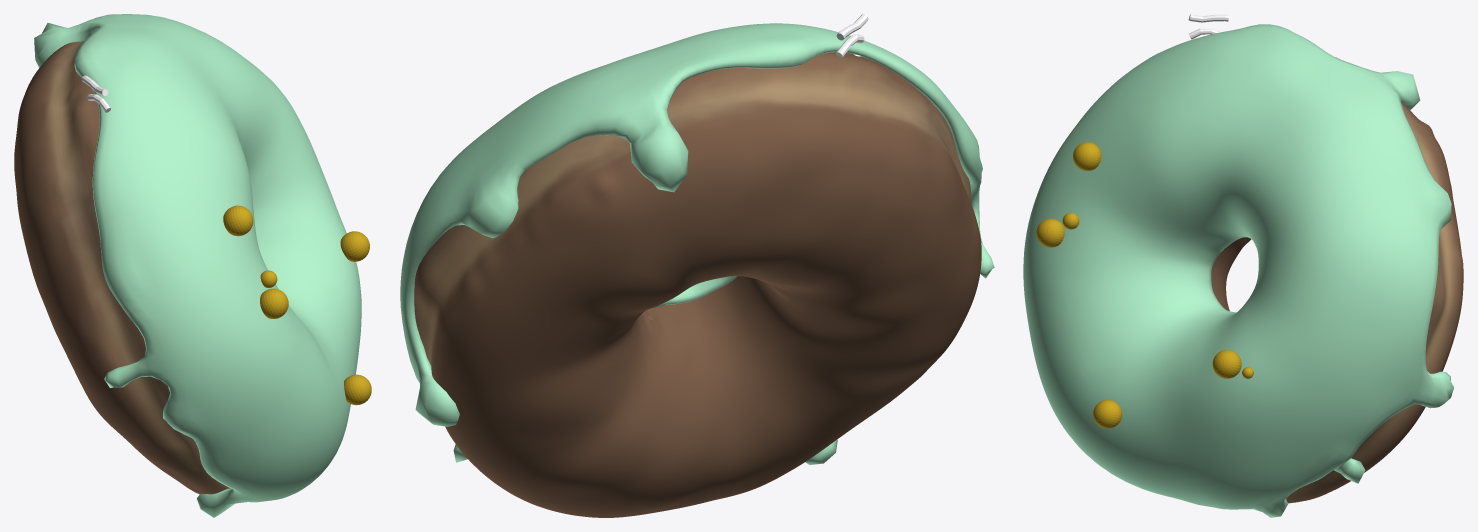
The model's file is asset.glb.
3 views of the same model, side by side, from view 1: azimuth 30°, elevation 25°; view 2: azimuth 150°, elevation 25°; view 3: azimuth 270°, elevation 25° (orthographic). The views are drawn at different scales.
Visible parts, largest first — view 1: Icing, Dough, Sphere.001, Sphere.003, Sphere.004, Sphere.005; view 2: Dough, Icing; view 3: Icing, Dough, Sphere.003, Sphere.005, Sphere.004, Sphere.001.
Boxes of the visible parts, box(x1,y1,x2,y2) form: Icing: box(34, 14, 361, 517); Dough: box(14, 40, 229, 494); Sphere.001: box(223, 205, 253, 236); Sphere.003: box(340, 231, 369, 261); Sphere.004: box(260, 288, 288, 318); Sphere.005: box(344, 374, 371, 405); Dough: box(414, 52, 981, 517); Icing: box(400, 23, 994, 464); Icing: box(1023, 24, 1453, 517); Dough: box(1211, 57, 1463, 503); Sphere.003: box(1212, 350, 1241, 378); Sphere.005: box(1093, 399, 1122, 428); Sphere.004: box(1036, 218, 1064, 247); Sphere.001: box(1073, 142, 1101, 170).
Size of what is drawn, in the model's own units: 0.1152 by 0.1327 by 0.1293.
Materials: 4 (1 with a texture image).
